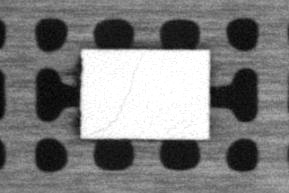DIE_CRACK: (86, 56, 140, 136)
